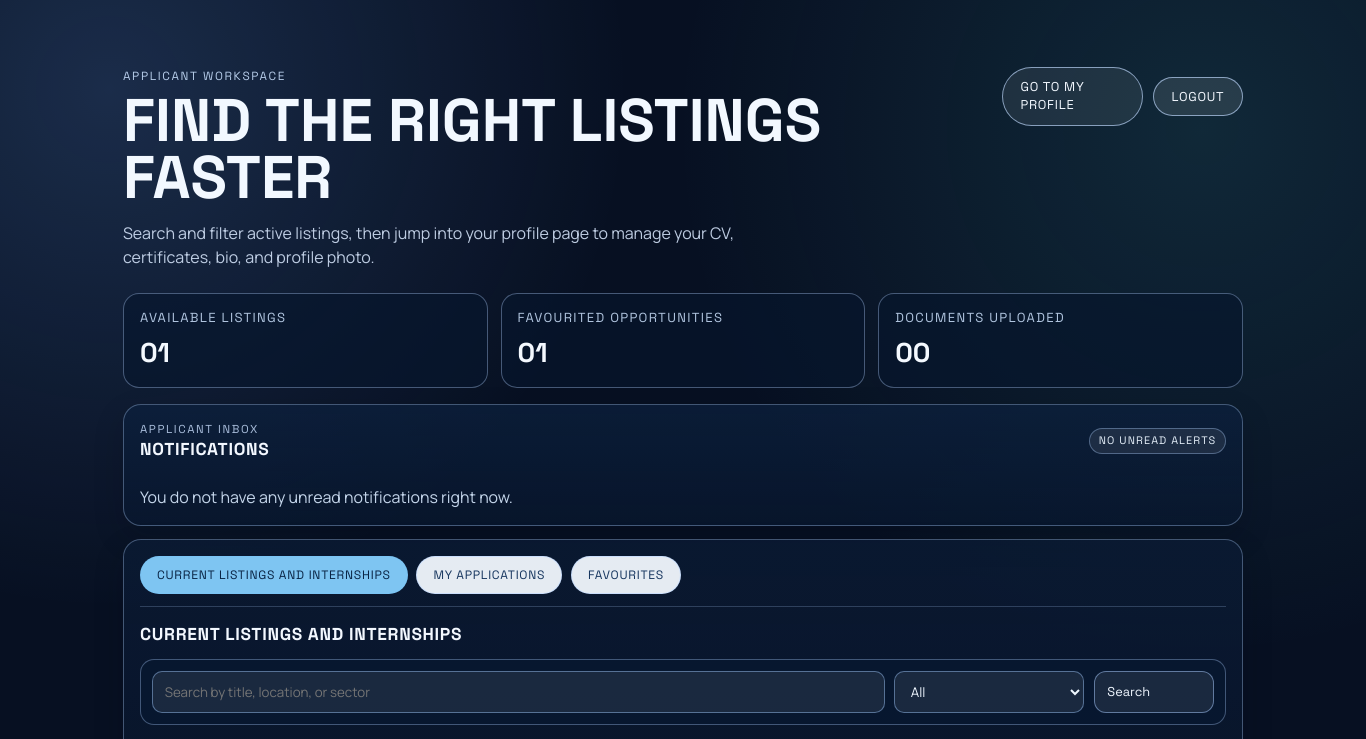
Test: Applicant favourite listings acceptance tests › loads favourited opportunities and removes a favourite listing
This screenshot has width=1366, height=739.
Click the tab "Favourites" at (626, 575), box [571,556,681,594]
(page scrolled)
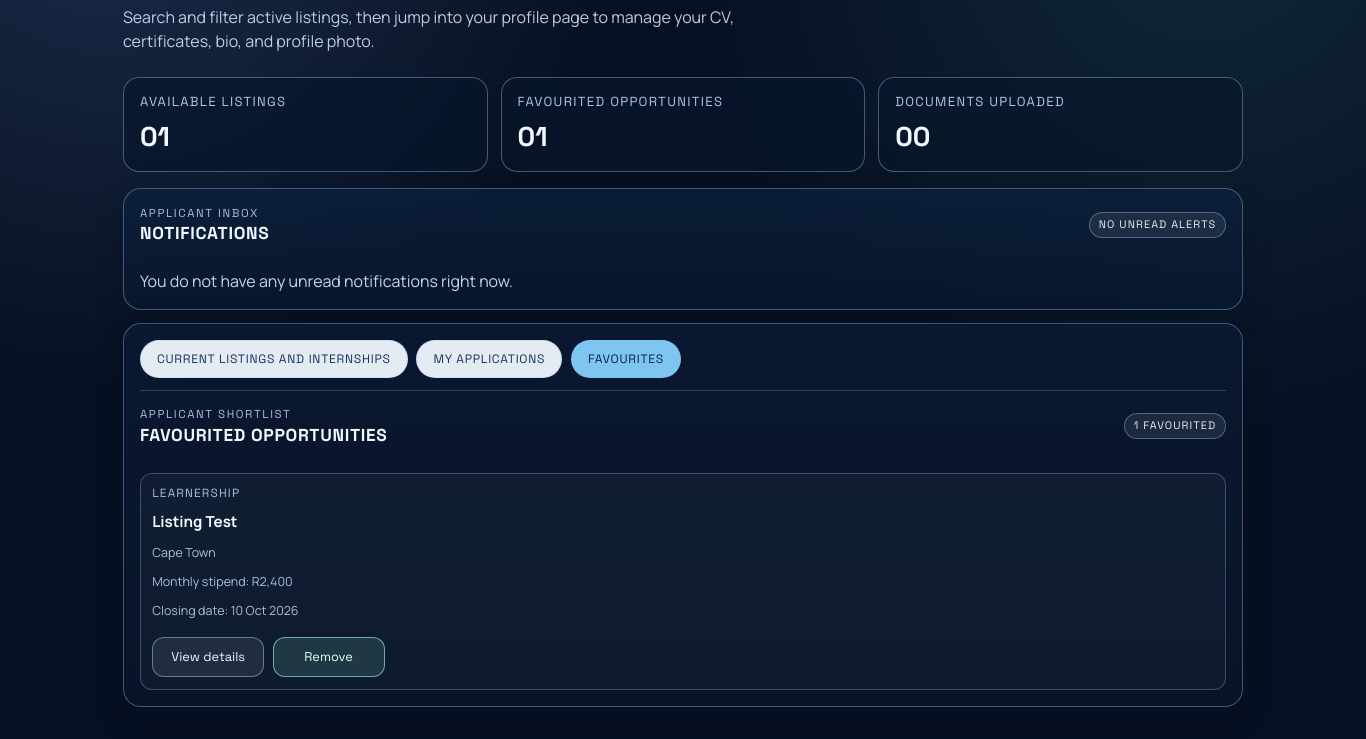
Expected: the button with aria-label "Remove favourited Listing Test" is shown
Click the button with aria-label "Remove favourited Listing Test" at (328, 657), box [272,637,384,677]
(page scrolled)
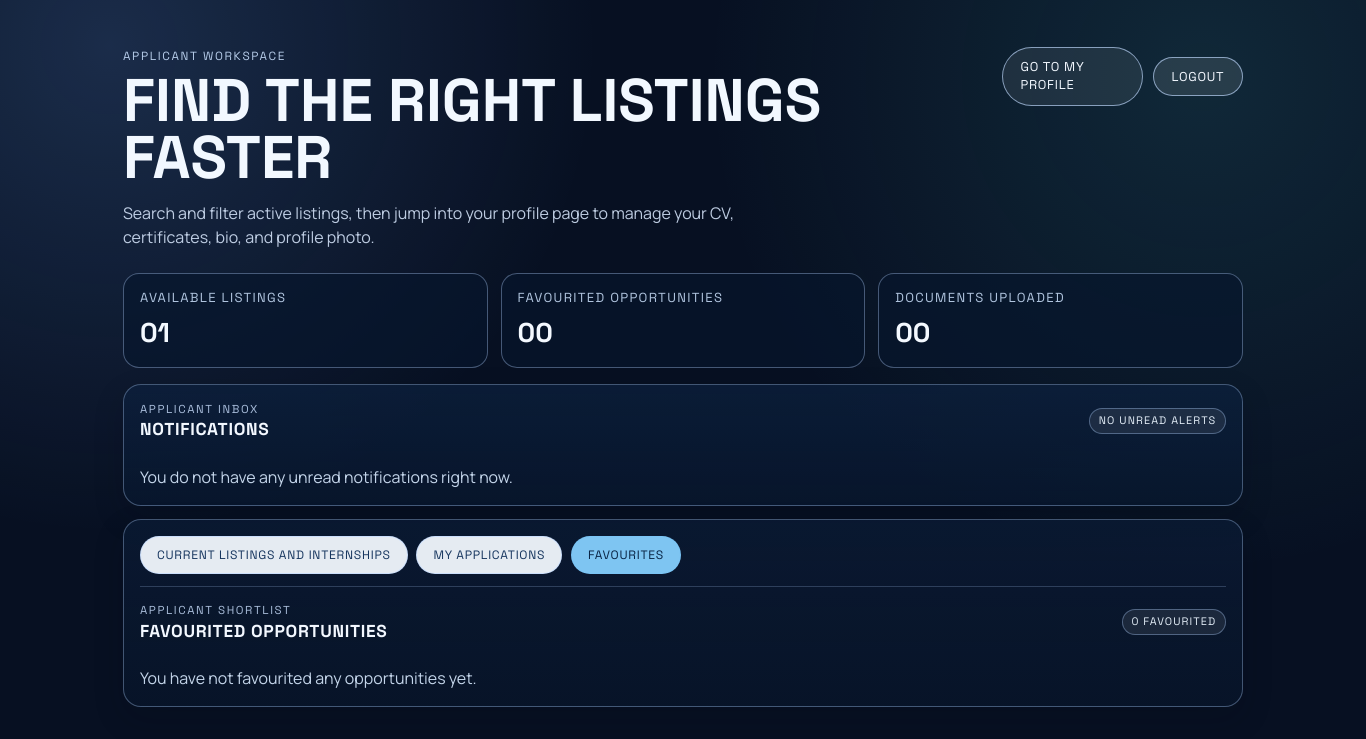
Expected: the text "You have not favourited any opportunities yet." is shown, [140,667,477,689]
